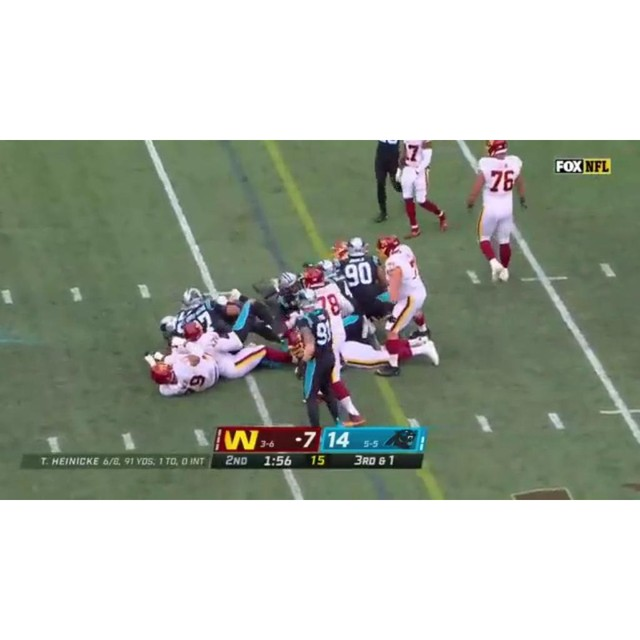american-football-player: (374, 235, 441, 372), (465, 141, 528, 284), (299, 305, 364, 428), (339, 237, 392, 337), (394, 141, 448, 235)
